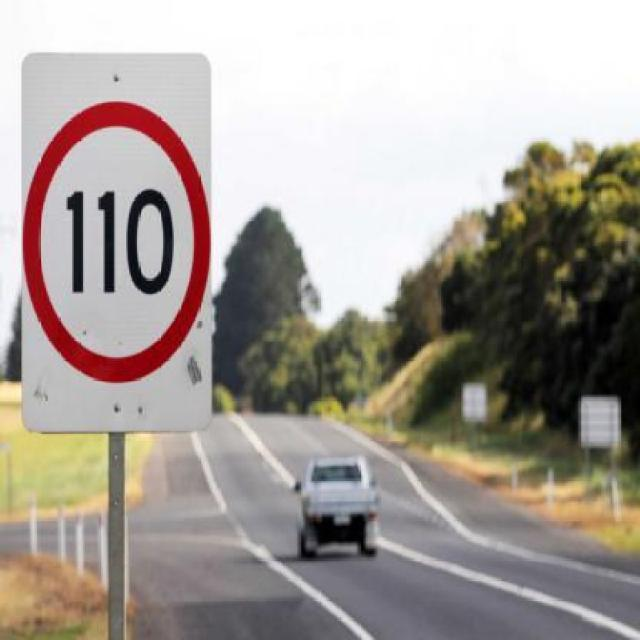speed limit 110: (24, 100, 213, 382)
